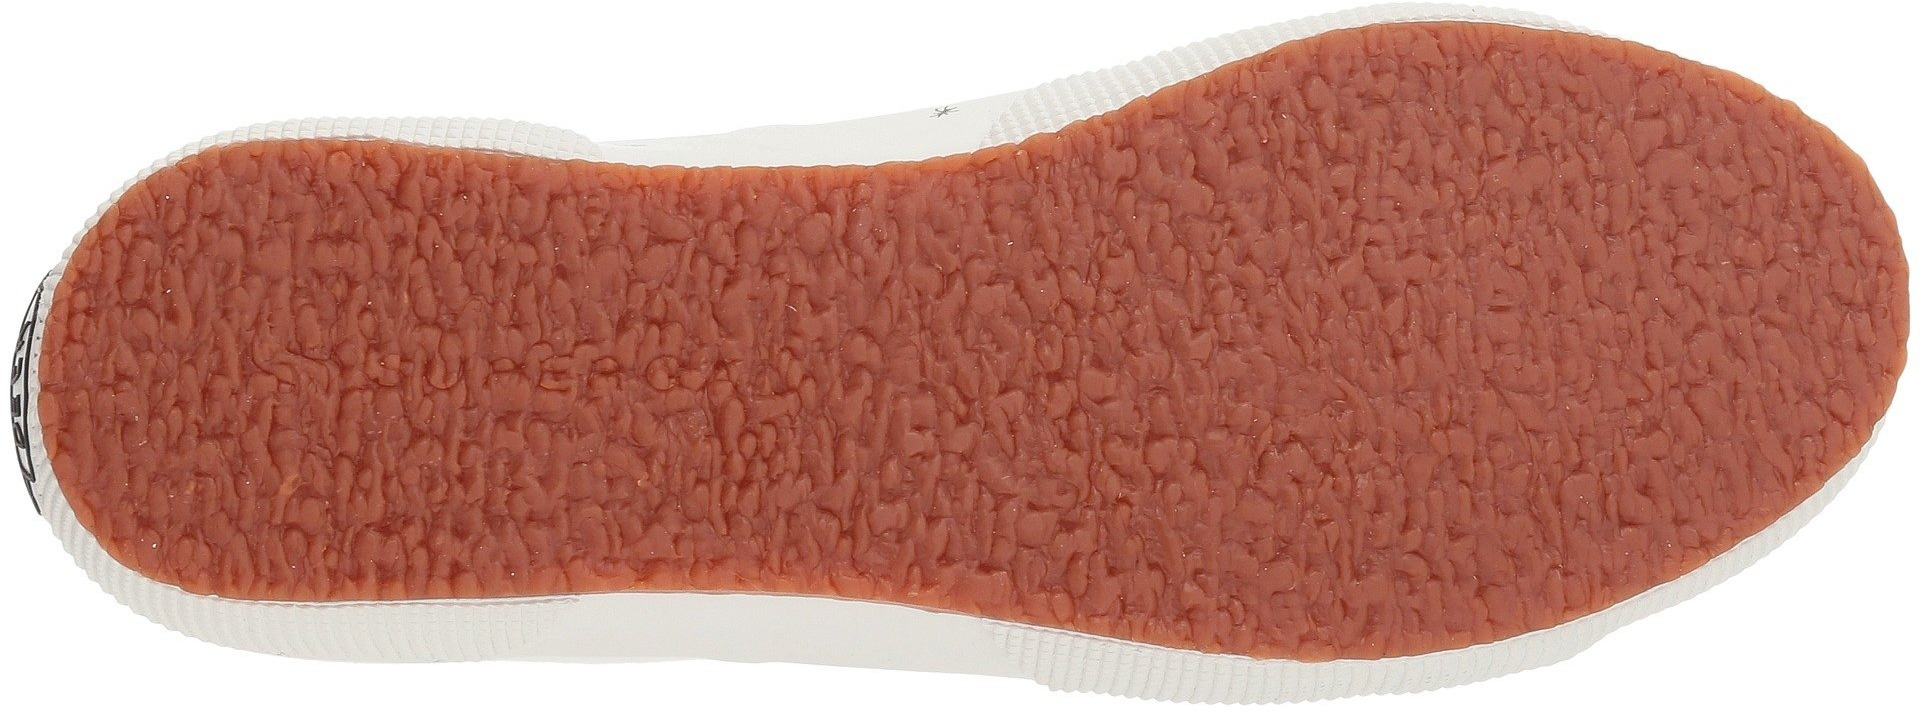other: (1014, 158, 1488, 613), (582, 181, 1008, 584), (156, 176, 564, 579), (1493, 92, 1791, 370), (1495, 368, 1698, 556)
